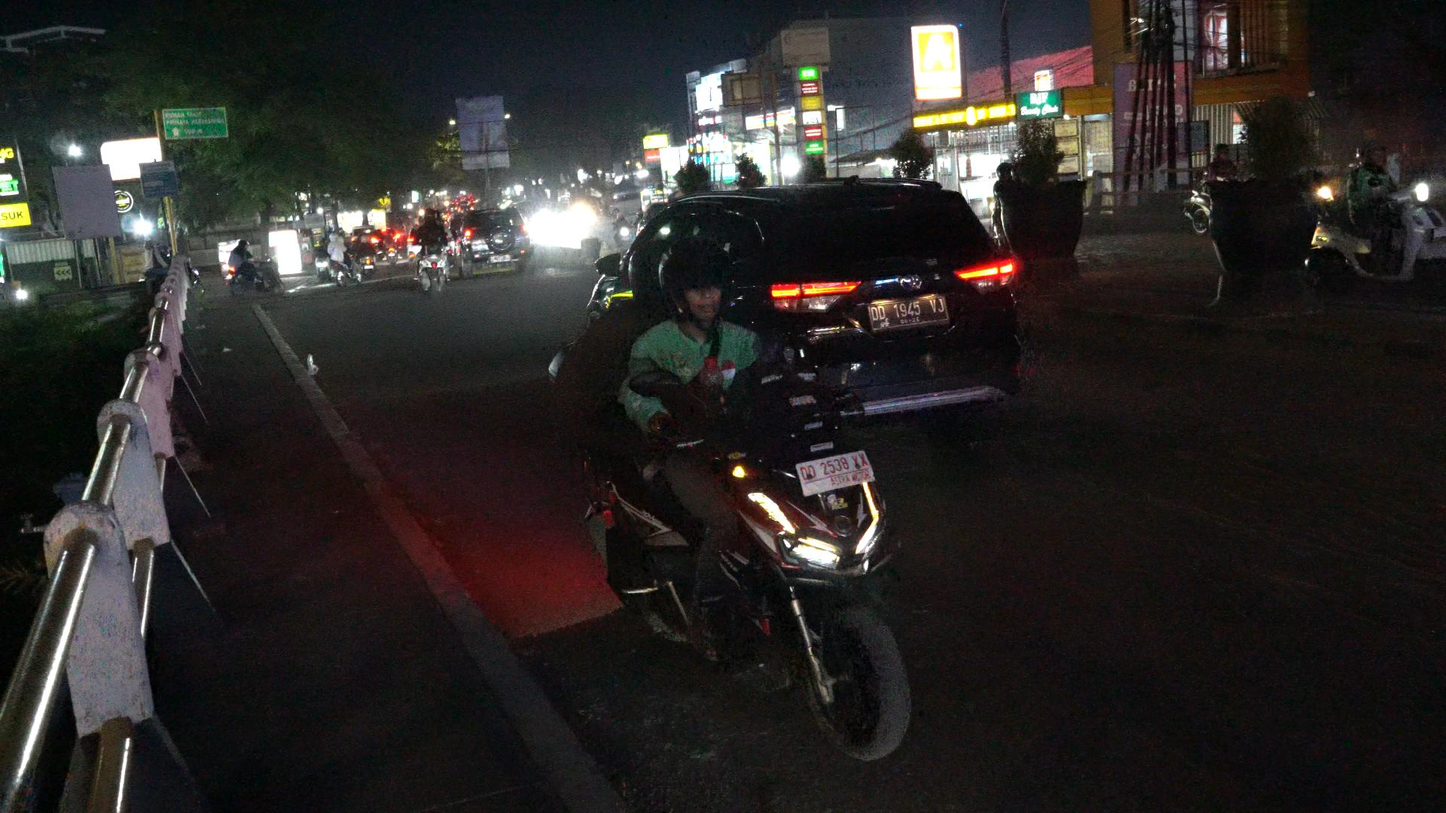number-plate: (792, 450, 879, 496)
